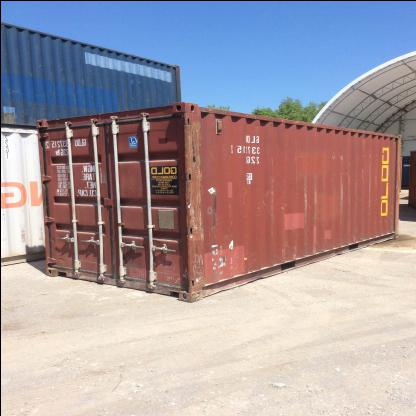Damage: (181, 120, 203, 282), (333, 166, 349, 230), (206, 192, 220, 242), (266, 174, 276, 238), (300, 178, 308, 248), (276, 179, 290, 219), (365, 152, 373, 216), (350, 154, 358, 218), (312, 173, 320, 229), (223, 199, 233, 238), (254, 190, 268, 216), (364, 218, 389, 232), (373, 154, 379, 208), (278, 240, 288, 264), (360, 168, 364, 218), (240, 182, 248, 204), (290, 241, 298, 260), (356, 136, 366, 150), (330, 152, 346, 160), (54, 254, 66, 264), (48, 233, 57, 243), (352, 226, 358, 240), (252, 121, 261, 130), (268, 156, 276, 166), (240, 211, 248, 219), (290, 156, 300, 161)
